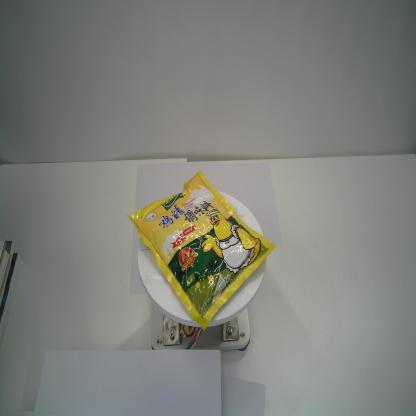Seasoner: (126, 169, 278, 332)
